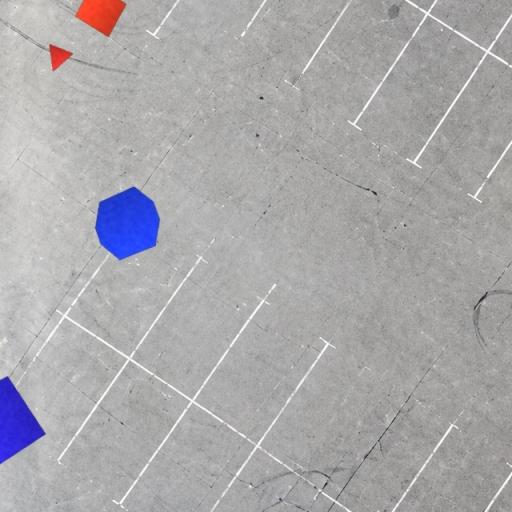BLUE_SQUARE: (0, 375, 46, 476)
RED_SQUARE: (74, 0, 128, 38)
